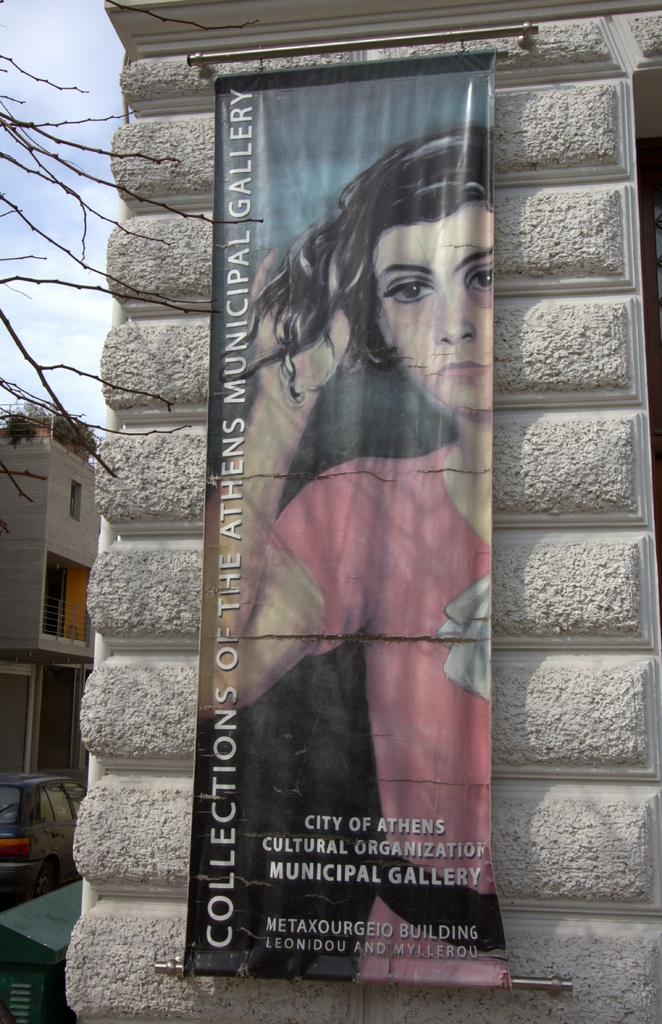Tree: (0, 0, 274, 532)
